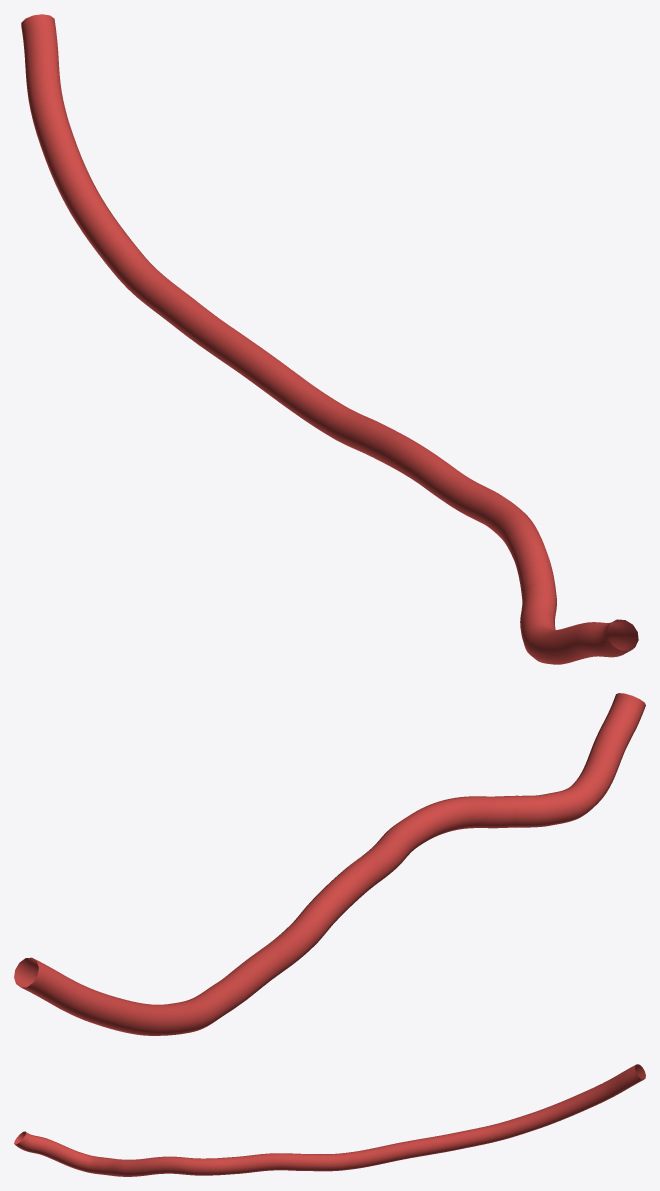
3 renders of one model, top to bottom at view 1: azimuth 30°, elevation 25°; view 2: azimuth 150°, elevation 25°; view 3: azimuth 270°, elevation 25°, orthographic. The views are drawn at different scales.
Visible parts, largest first — view 1: 左侧股动脉; view 2: 左侧股动脉; view 3: 左侧股动脉.
Boxes of the visible parts, x1=… form: 左侧股动脉: x1=21, y1=14, x2=638, y2=664; 左侧股动脉: x1=14, y1=693, x2=645, y2=1035; 左侧股动脉: x1=14, y1=1064, x2=645, y2=1176.
Size of the model in its own units: 0.0472 by 0.1026 by 0.4986.
